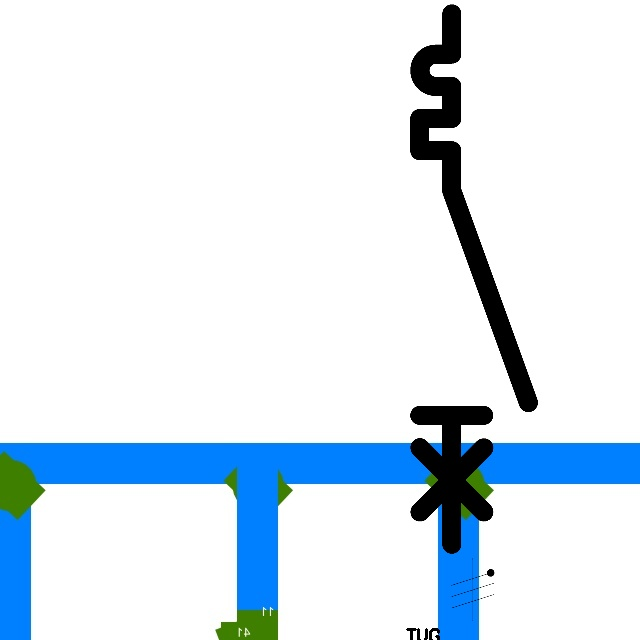interruptor_termomagnetico: (406, 0, 542, 557)
